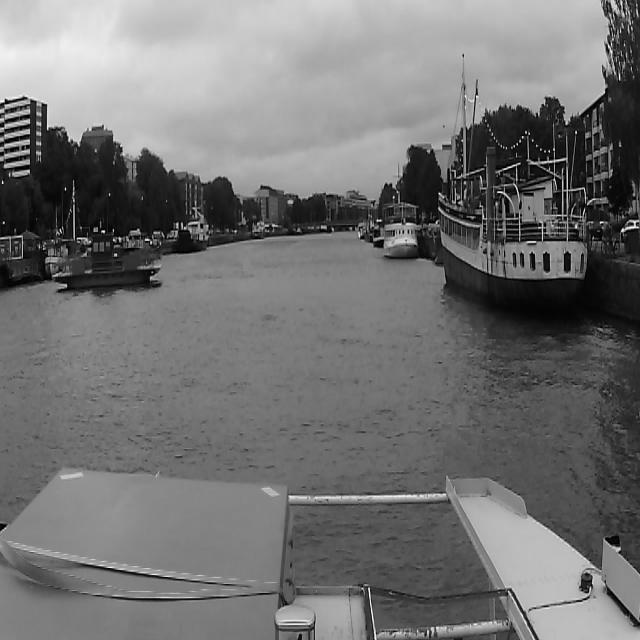ship: (437, 141, 589, 304), (54, 230, 160, 286), (48, 200, 80, 276), (383, 202, 423, 260), (114, 224, 164, 260), (173, 213, 213, 257), (252, 221, 266, 239), (373, 220, 381, 244)
